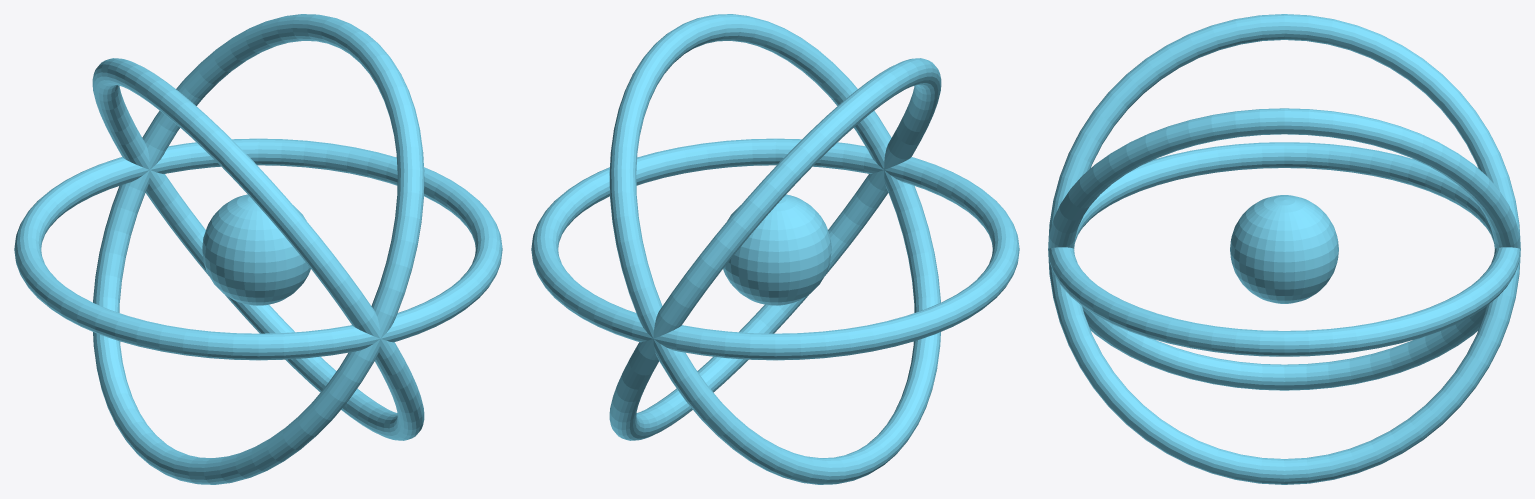
Rendered from react.glb.
The picture shows the model from 3 angles, left to right: view 1: azimuth 30°, elevation 25°; view 2: azimuth 150°, elevation 25°; view 3: azimuth 270°, elevation 25°; orthographic projection. The views are drawn at different scales.
Parts seen in each view (by area): view 1: react; view 2: react; view 3: react.
Boxes of the visible parts, bbox=[...] form: react: bbox=[14, 14, 502, 484]; react: bbox=[531, 14, 1019, 484]; react: bbox=[1048, 14, 1520, 484].
Bounding box in the file's own units: 2.54 × 2.22 × 2.54.
